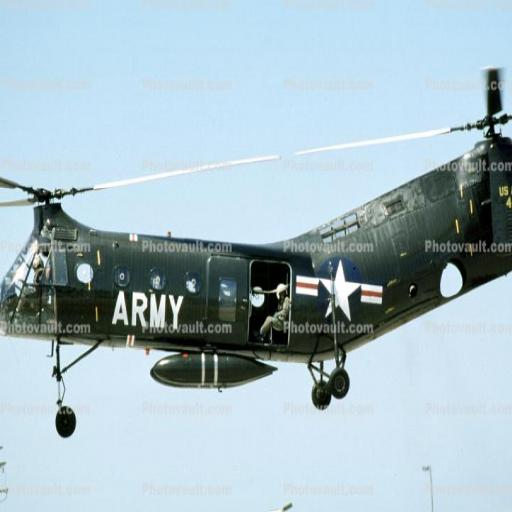helicopter: (1, 70, 512, 416)
